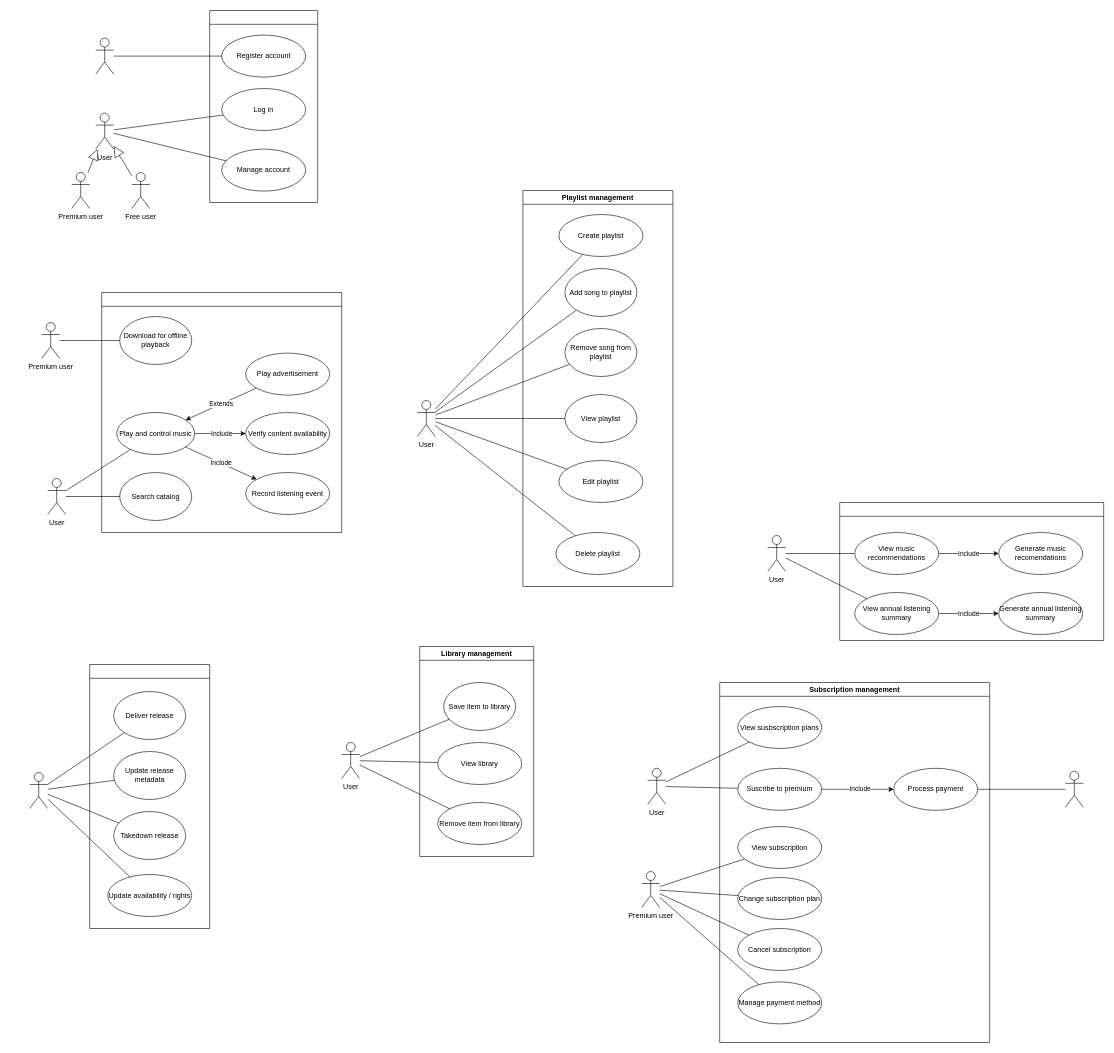
Some shapes in this 1114 by 1053 pixel diagram are drawn without their labels. The shapes that lost their labels are listed below. From the top down, each one's centre as x and y in pixels, then its label:
At [104,56]: "Guest".
At [263,106]: "Account management".
At [221,412]: "Music consumption Management".
At [971,571]: "Personalization and listening insights management".
At [38,790]: "Label / Distributor system".
At [149,796]: "Release management".
At [1074,789]: "Payment provider".
